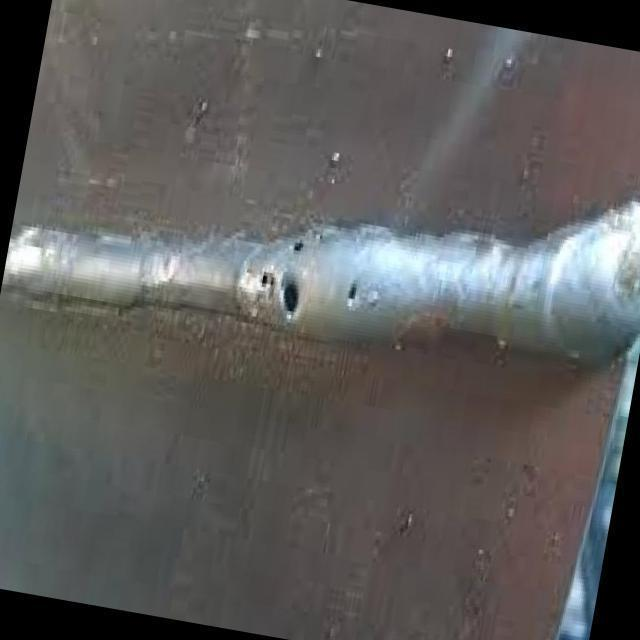defect: (257, 269, 304, 321), (286, 225, 310, 262), (340, 277, 360, 310)
